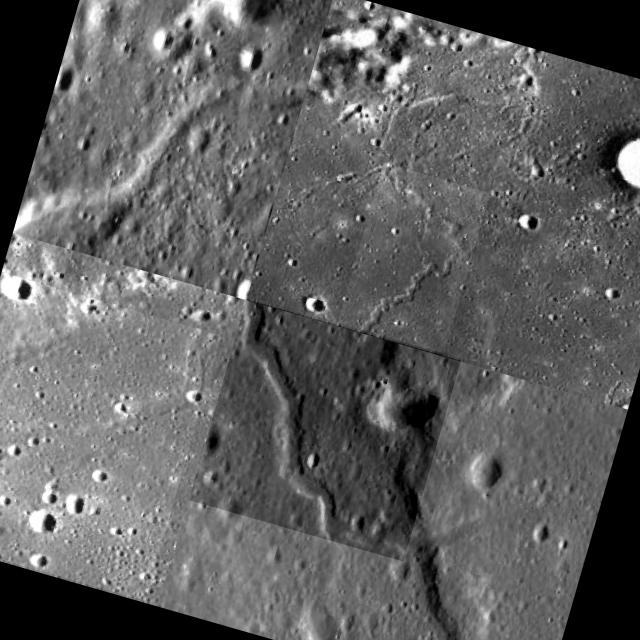rille: (13, 0, 321, 297), (270, 202, 640, 406), (0, 272, 221, 601), (188, 299, 461, 561), (337, 162, 490, 354)
